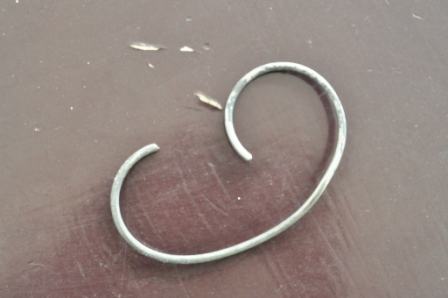METAL WIRE: (108, 61, 349, 266)
